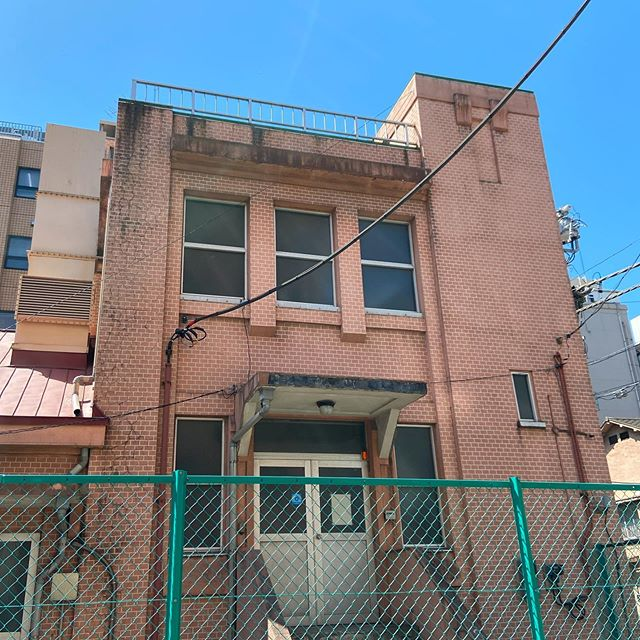building: (100, 65, 628, 640), (1, 123, 107, 640)
sky: (7, 1, 640, 114)
